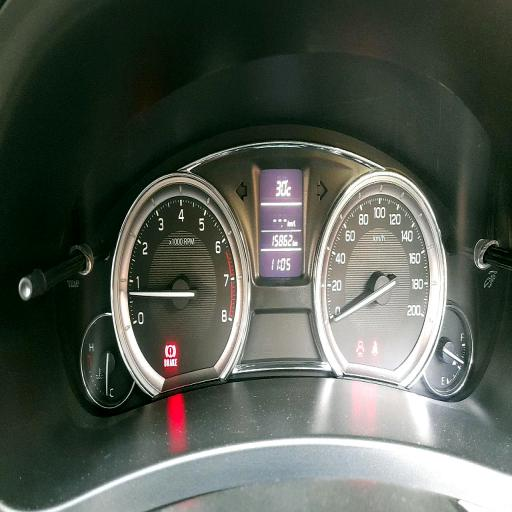belt: (371, 339, 379, 358)
brake_system_fault: (164, 342, 176, 358)
tachometer: (112, 170, 250, 386)
